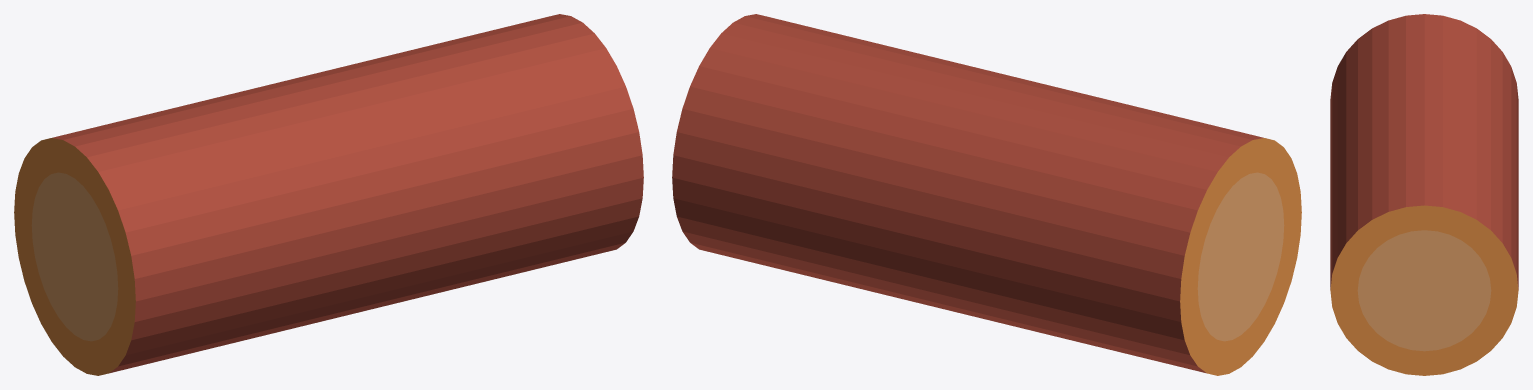
Rendered from wood.fbx.
3 renders of one model, left to right at view 1: azimuth 30°, elevation 25°; view 2: azimuth 150°, elevation 25°; view 3: azimuth 270°, elevation 25°, orthographic. The views are drawn at different scales.
Parts seen in each view (by area): view 1: Cylinder; view 2: Cylinder; view 3: Cylinder.
Part boxes in pixels (x1,y1,x2,y2): Cylinder: (14,14,643,375); Cylinder: (672,14,1301,375); Cylinder: (1330,14,1518,375).
Bounding box in the file's own units: 200 × 83.05 × 83.05.
